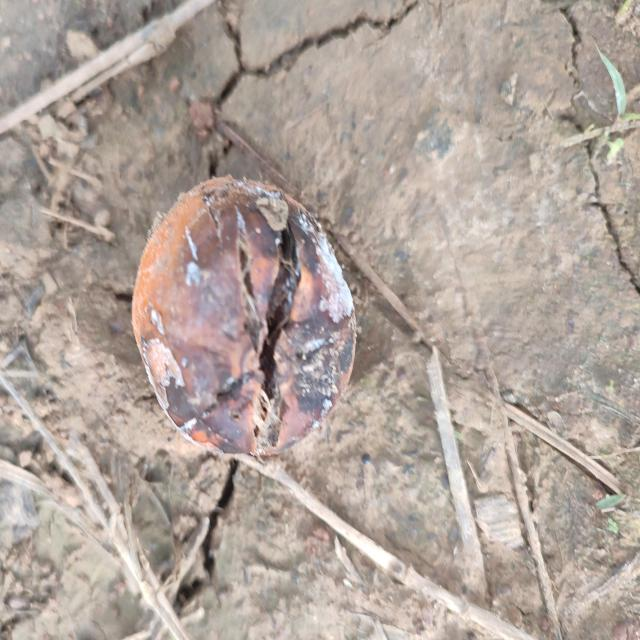damaged: (130, 177, 358, 460)
